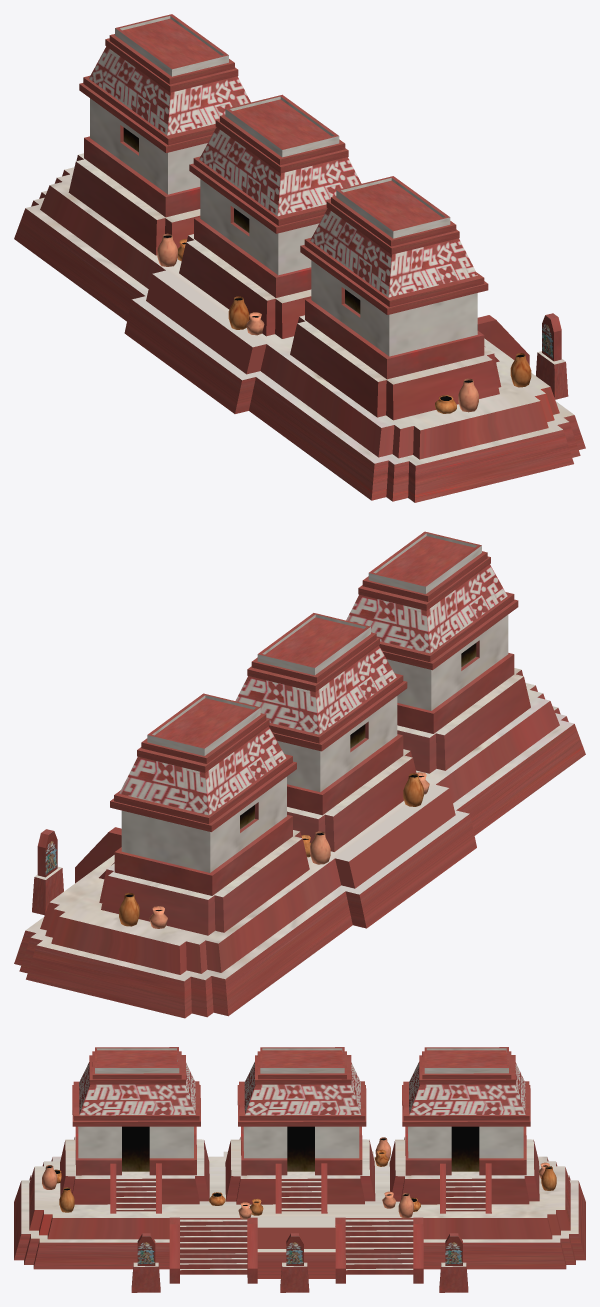
Rendered from piramide_tri_1.dae.
3 renders of one model, top to bottom at view 1: azimuth 30°, elevation 25°; view 2: azimuth 150°, elevation 25°; view 3: azimuth 270°, elevation 25°, orthographic. The views are drawn at different scales.
Visible parts, largest first — view 1: tria_1; view 2: tria_1; view 3: tria_1.
Part boxes in pixels (x1,y1,x2,y2): tria_1: (14,14,585,502); tria_1: (14,531,585,1018); tria_1: (14,1047,585,1292).
Bounding box in the file's own units: 12.96 × 31.16 × 10.39.
